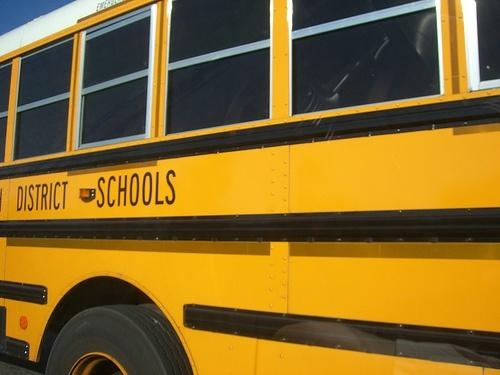bus: (4, 3, 500, 373)
